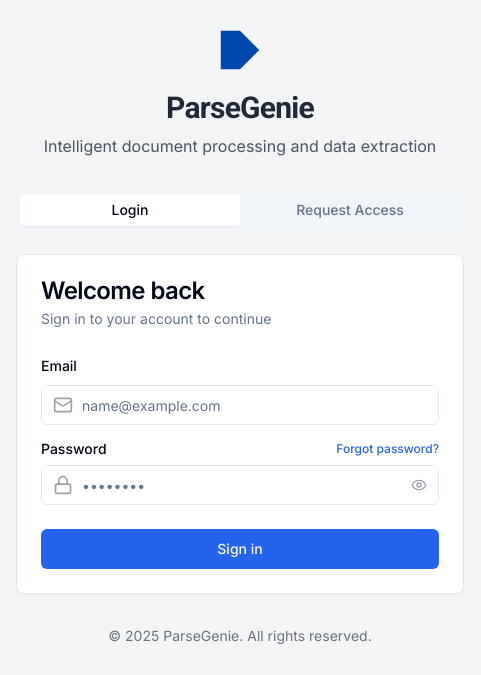
it: LoginPage Component › validates password length in login form
Enter valid email but short password
Type "test@example.com" into the field labelled "Email".
click(240, 405); type("test@example.com")  # box x1=41 y1=385 x2=439 y2=425
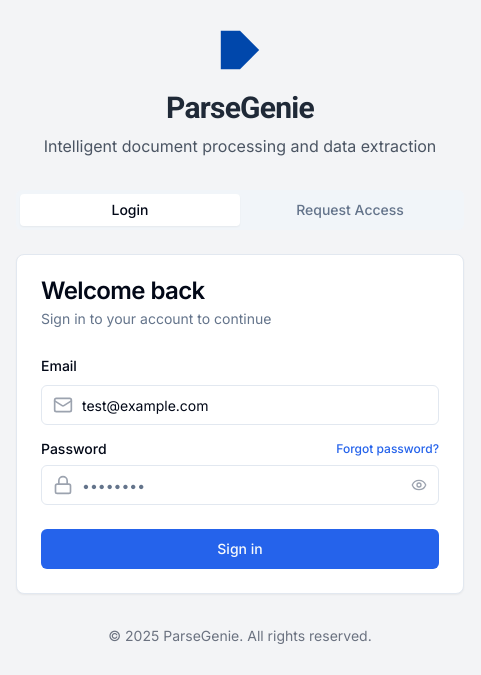
Type "1234" into the password field labelled "Password".
click(240, 485); type("1234")  # box x1=41 y1=465 x2=439 y2=505
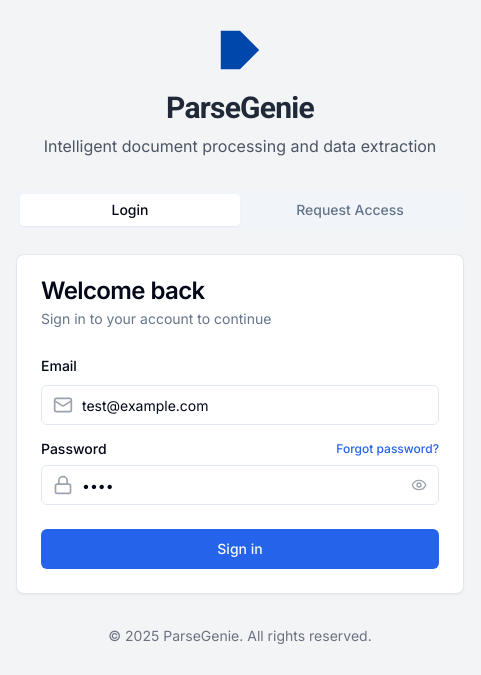
Submit the form
Click the button "Sign in".
click(240, 549)  # box x1=41 y1=529 x2=439 y2=569
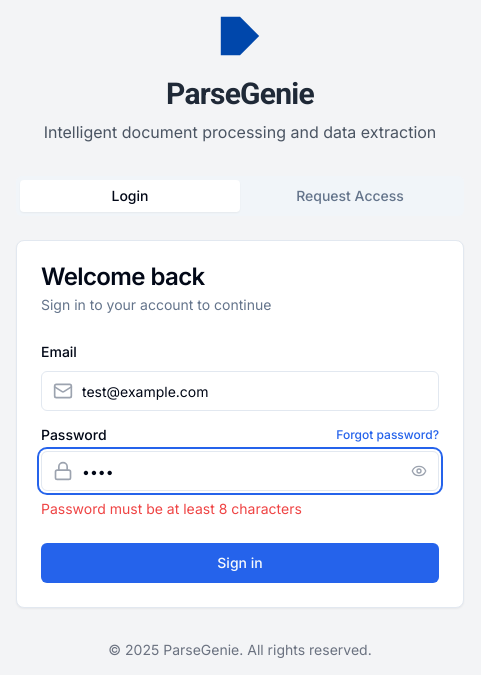
Check: the text "Password must be at least 8 characters" is shown, box x1=41 y1=500 x2=302 y2=517
